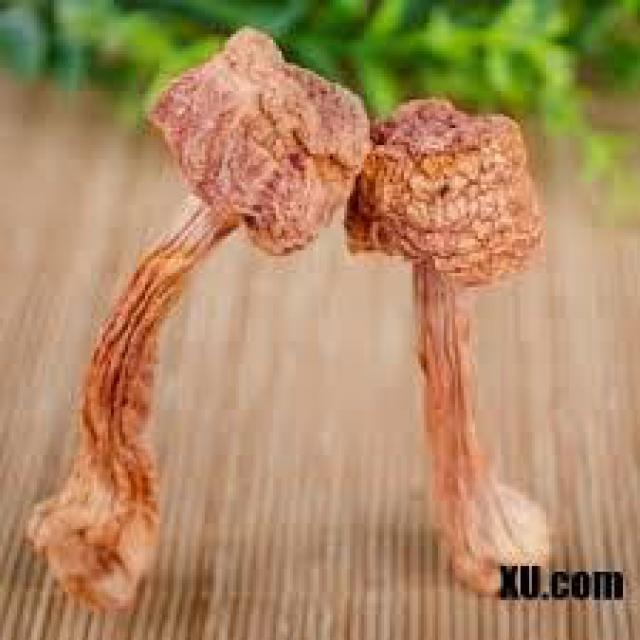Agaricus blazei Murill: (38, 32, 368, 611), (352, 94, 579, 596)
